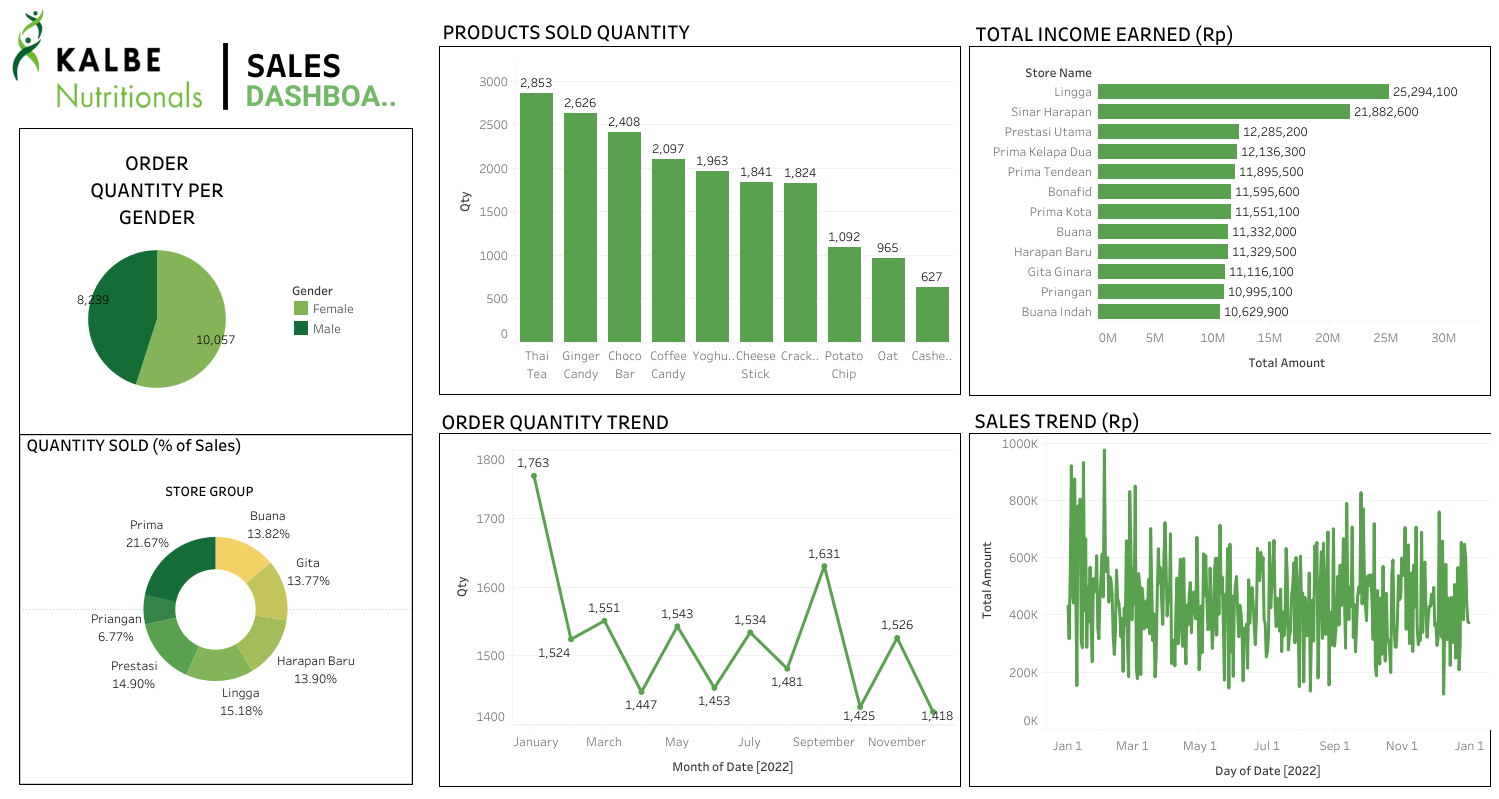

The dashboard page shown, as its layout file describes it:
{"tool":"tableau","page":{"name":"Kalbe Nutritionals Sales Dashboard","canvas":[1500,800],"ordinal":0},"visuals":[{"type":"text","box":[440,16,317,30]},{"type":"text","box":[973,18,317,30]},{"type":"text","box":[240,48,193,67]},{"type":"worksheet","title":"Total Sales (Total Amount) by Store Name","mark":"Automatic","rows":["StoreName"],"cols":["TotalAmount"],"box":[977,61,500,332]},{"type":"worksheet","title":"Total Sales (Qty) by Product","mark":"Automatic","rows":["Qty"],"cols":["Product Name"],"box":[448,63,506,319]},{"type":"worksheet","title":"Age by Gender","mark":"Pie","box":[64,130,317,287]},{"type":"legend","title":"Age by Gender","param":"[federated.116jt4i0xnq9ba19j1mtr0qon5h8].[none:Gender_Encoded:nk]","box":[291,279,140,59]},{"type":"text","box":[972,405,317,30]},{"type":"text","box":[439,406,317,30]},{"type":"text","box":[24,429,317,30]},{"type":"worksheet","title":"Daily Total Amount","mark":"Automatic","rows":["TotalAmount"],"cols":["Date"],"box":[969,433,522,354]},{"type":"worksheet","title":"Percent of Sales by Group Store","mark":"Pie","rows":["Calculation_1986017073114288220","Calculation_1986017073110249561"],"box":[19,434,394,351]},{"type":"worksheet","title":"Monthly Qty Report","mark":"Automatic","rows":["Qty"],"cols":["Date"],"box":[445,450,509,332]},{"type":"text","box":[51,475,317,30]}]}

Visuals, with their boxes in screenshot pixels (x1, y1, x2, y2), scaled from the page's 1500x800 canvas onto the 1499x799 screenshot:
text: x1=440 y1=16 x2=756 y2=46
text: x1=972 y1=18 x2=1289 y2=48
text: x1=240 y1=48 x2=433 y2=115
"Total Sales (Total Amount) by Store Name" worksheet: x1=976 y1=61 x2=1476 y2=393
"Total Sales (Qty) by Product" worksheet: x1=448 y1=63 x2=953 y2=382
"Age by Gender" worksheet (Pie marks): x1=64 y1=130 x2=381 y2=416
"Age by Gender" legend: x1=291 y1=279 x2=431 y2=338
text: x1=971 y1=404 x2=1288 y2=434
text: x1=439 y1=405 x2=755 y2=435
text: x1=24 y1=428 x2=341 y2=458
"Daily Total Amount" worksheet: x1=968 y1=432 x2=1490 y2=786
"Percent of Sales by Group Store" worksheet (Pie marks): x1=19 y1=433 x2=413 y2=784
"Monthly Qty Report" worksheet: x1=445 y1=449 x2=953 y2=781
text: x1=51 y1=474 x2=368 y2=504
